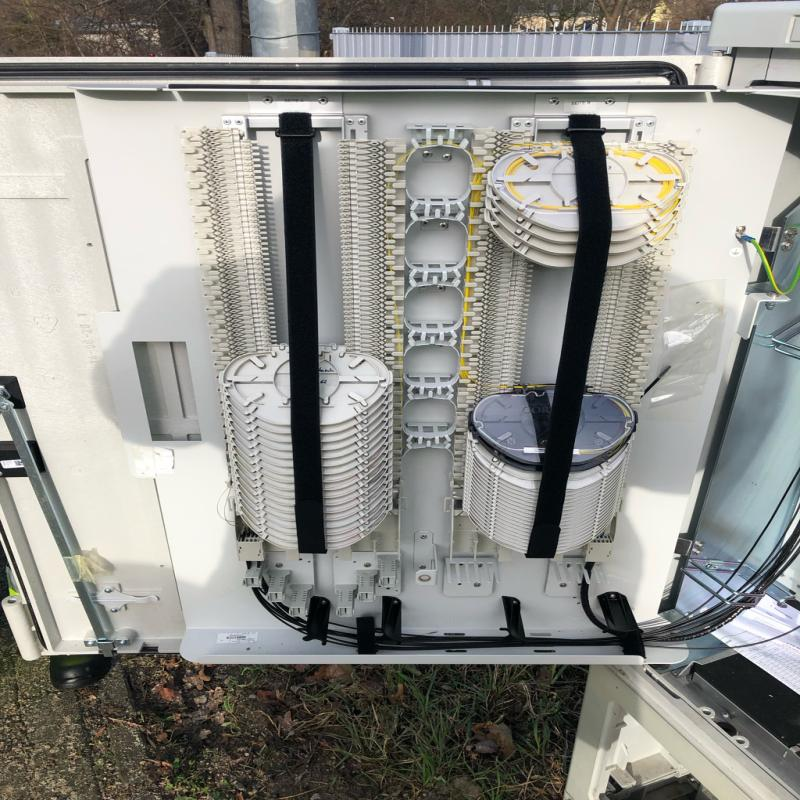NT-Gehause: (2, 4, 800, 800)
Spleiskassetten: (438, 123, 708, 572), (188, 117, 398, 565)
